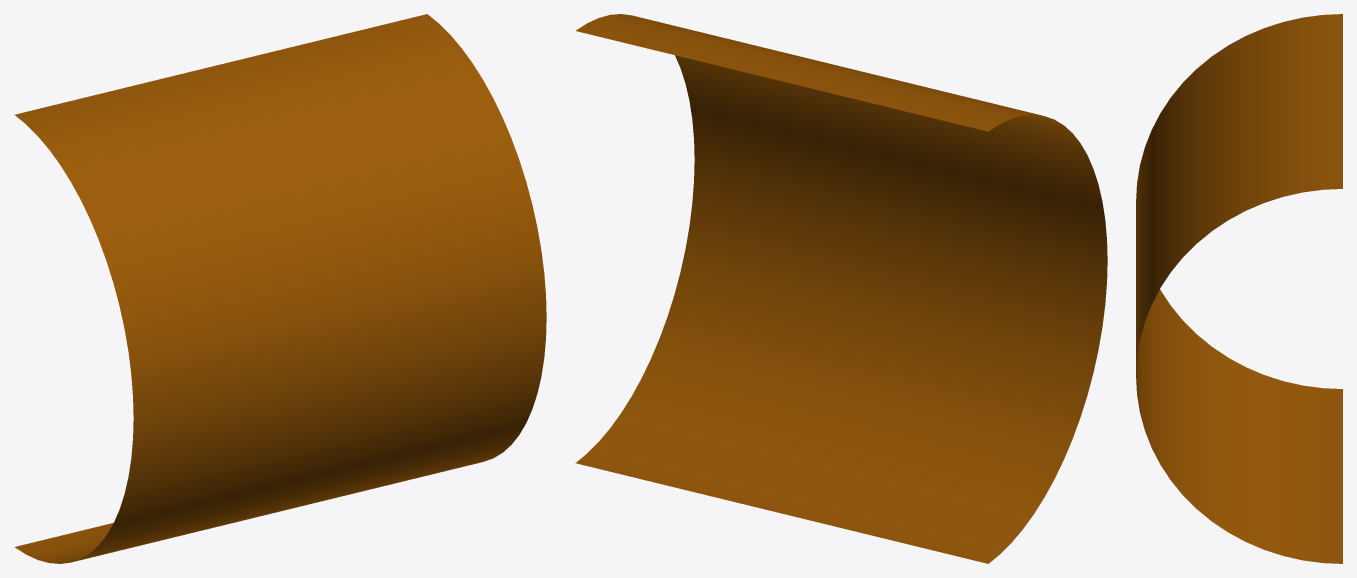
File: pipe_2.glb
The picture shows the model from 3 angles, left to right: view 1: azimuth 30°, elevation 25°; view 2: azimuth 150°, elevation 25°; view 3: azimuth 270°, elevation 25°; orthographic projection. The views are drawn at different scales.
Visible parts, largest first — view 1: Cylinder.007; view 2: Cylinder.007; view 3: Cylinder.007.
Part boxes in pixels (x1,y1,x2,y2): Cylinder.007: (14,14,546,563); Cylinder.007: (575,14,1107,563); Cylinder.007: (1136,14,1342,563).
Bounding box in the file's own units: 2 × 2 × 1.
